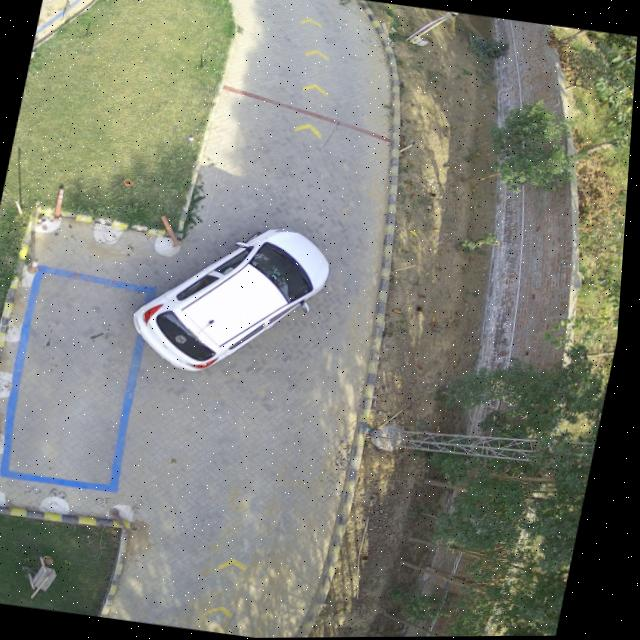car: (137, 228, 333, 372)
